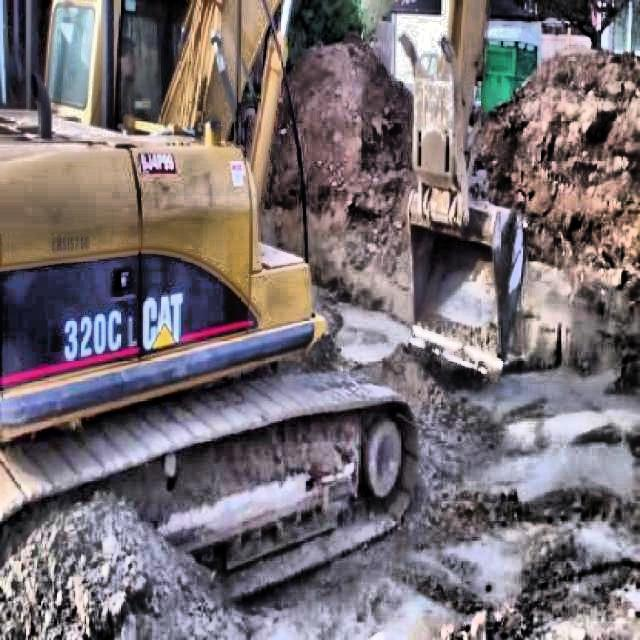excavator: (1, 1, 528, 608)
